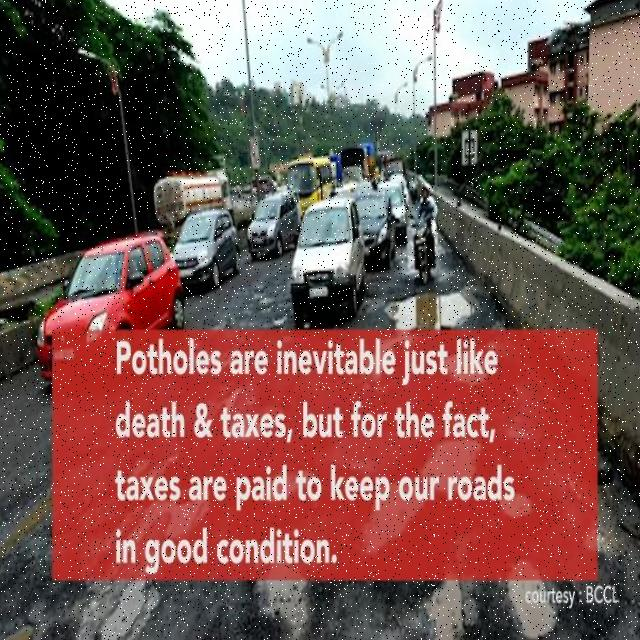pothole: (360, 444, 480, 555), (252, 523, 320, 640), (0, 479, 80, 564), (85, 564, 160, 640), (121, 492, 207, 556), (507, 555, 556, 630), (388, 290, 481, 327), (425, 562, 467, 640), (266, 311, 291, 339), (4, 622, 42, 640)
